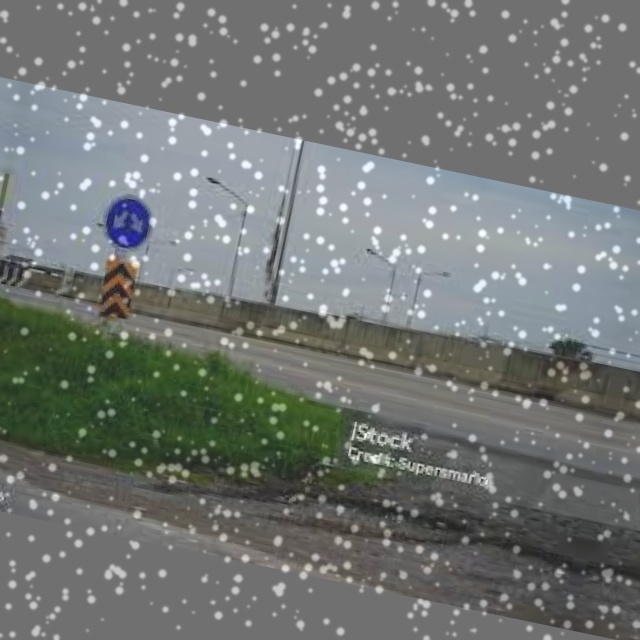Pass_Either_Side: (101, 190, 160, 254)
